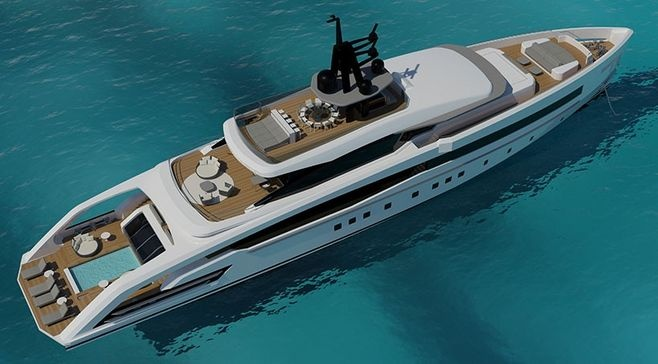yacht: (16, 8, 634, 347)
